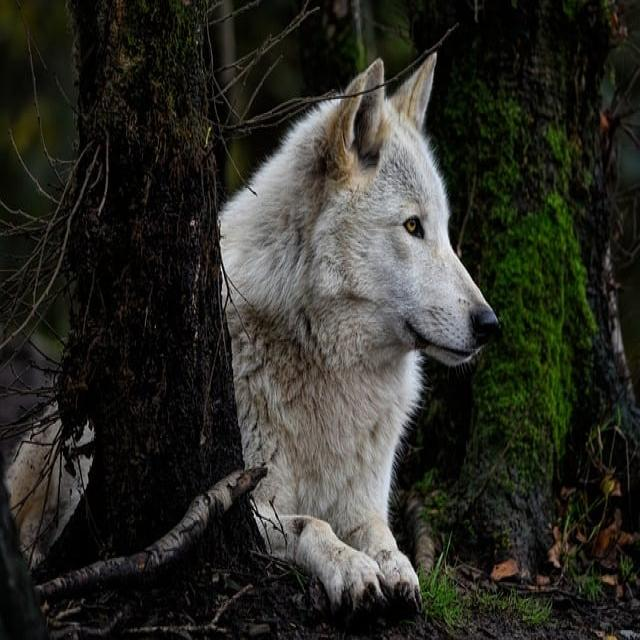Carnivorous: (216, 52, 503, 622), (3, 403, 92, 571)
